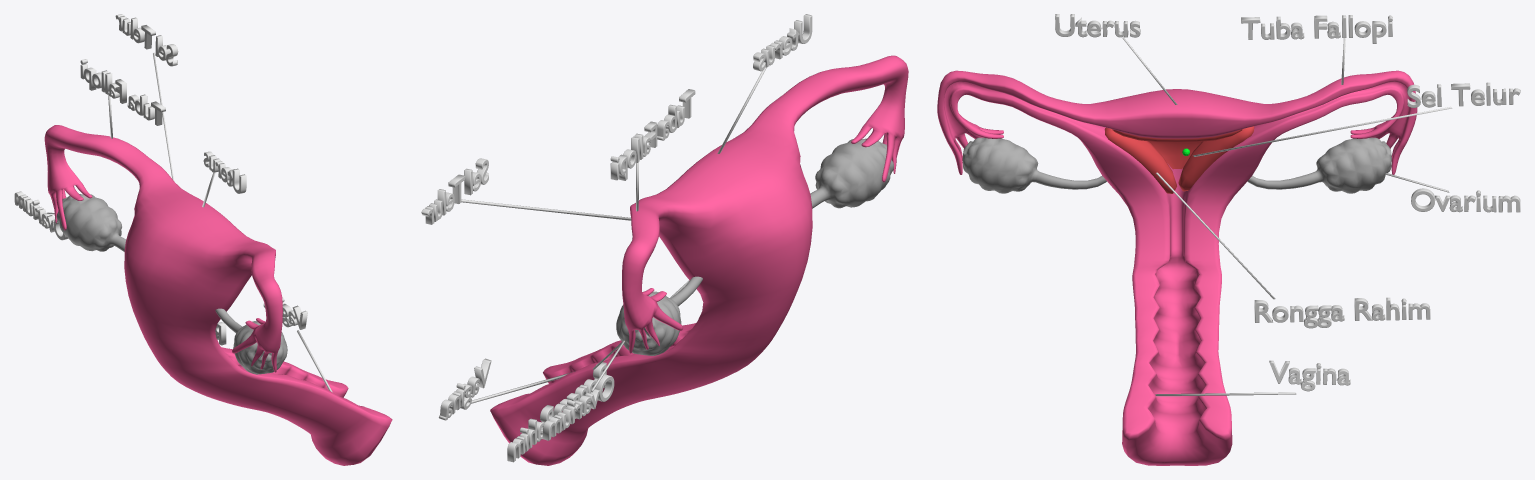
File: fase3.fbx
The picture shows the model from 3 angles, left to right: view 1: azimuth 30°, elevation 25°; view 2: azimuth 150°, elevation 25°; view 3: azimuth 270°, elevation 25°; orthographic projection. The views are drawn at different scales.
Visible parts, largest first — view 1: Cube.001, Sphere, tuba fallopi, sel telur, ovarium, uterus, vagina; view 2: Cube.001, Sphere, tuba fallopi, dinding rahim, sel telur, ovarium, uterus, vagina, Cube; view 3: Cube.001, Sphere, dinding rahim, tuba fallopi, Cube.004, Cube.002, sel telur, ovarium, vagina, uterus, Cube.003, Cube.
Part boxes in pixels (x1=…): Cube.001: x1=44, y1=125, x2=392, y2=465; Sphere: x1=56, y1=194, x2=287, y2=374; tuba fallopi: x1=80, y1=59, x2=165, y2=125; sel telur: x1=115, y1=14, x2=178, y2=66; ovarium: x1=14, y1=191, x2=68, y2=240; uterus: x1=203, y1=151, x2=246, y2=193; vagina: x1=263, y1=297, x2=307, y2=329; Cube.001: x1=490, y1=55, x2=908, y2=465; Sphere: x1=616, y1=138, x2=893, y2=355; tuba fallopi: x1=610, y1=89, x2=695, y2=180; dinding rahim: x1=507, y1=362, x2=606, y2=462; sel telur: x1=421, y1=158, x2=488, y2=224; ovarium: x1=542, y1=374, x2=614, y2=440; uterus: x1=753, y1=14, x2=812, y2=71; vagina: x1=438, y1=358, x2=491, y2=420; Cube: x1=461, y1=199, x2=631, y2=220; Cube.001: x1=937, y1=70, x2=1417, y2=465; Sphere: x1=962, y1=137, x2=1391, y2=193; dinding rahim: x1=1254, y1=297, x2=1430, y2=328; tuba fallopi: x1=1241, y1=15, x2=1392, y2=43; Cube.004: x1=1178, y1=126, x2=1254, y2=191; Cube.002: x1=1104, y1=127, x2=1176, y2=193; sel telur: x1=1407, y1=82, x2=1520, y2=107; ovarium: x1=1411, y1=188, x2=1520, y2=212; vagina: x1=1269, y1=360, x2=1350, y2=391; uterus: x1=1055, y1=14, x2=1140, y2=37; Cube.003: x1=1148, y1=141, x2=1201, y2=169; Cube: x1=1193, y1=107, x2=1452, y2=156.
Size of the model in its own units: 74.77 by 108 by 152.
12 materials, 3 textured.
